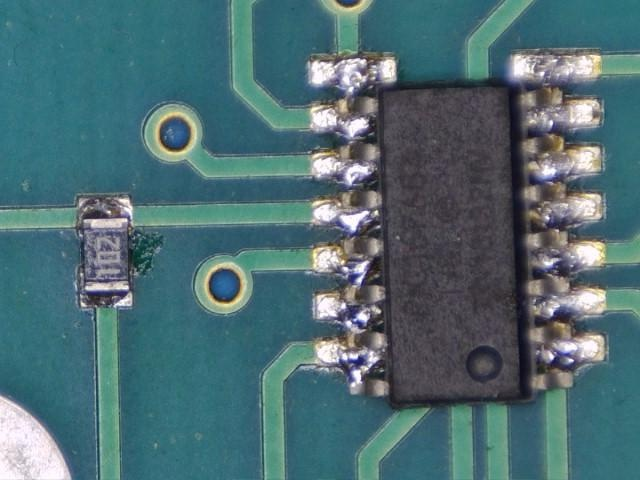pcb_defect: (310, 50, 607, 409), (512, 49, 607, 390), (309, 56, 398, 397)
